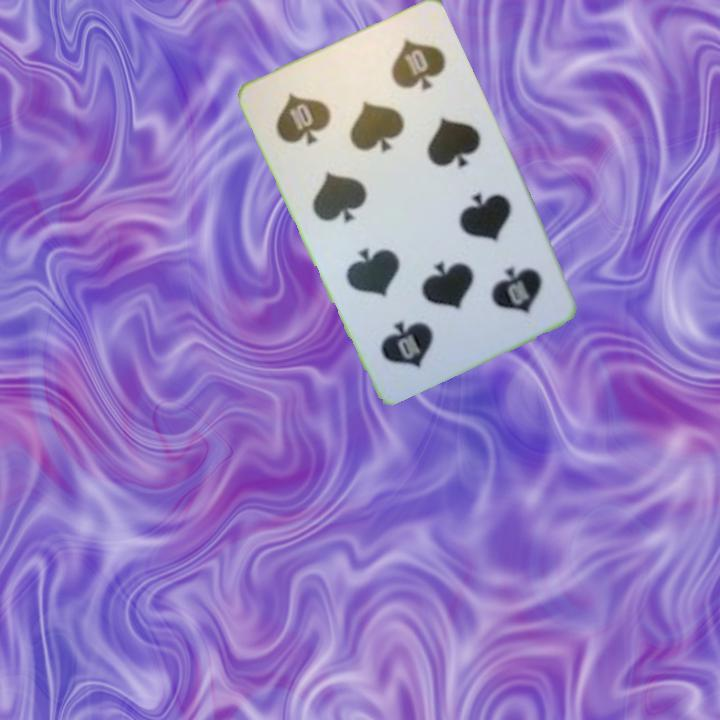s_10.png: (439, 231, 564, 349), (254, 56, 379, 174)
